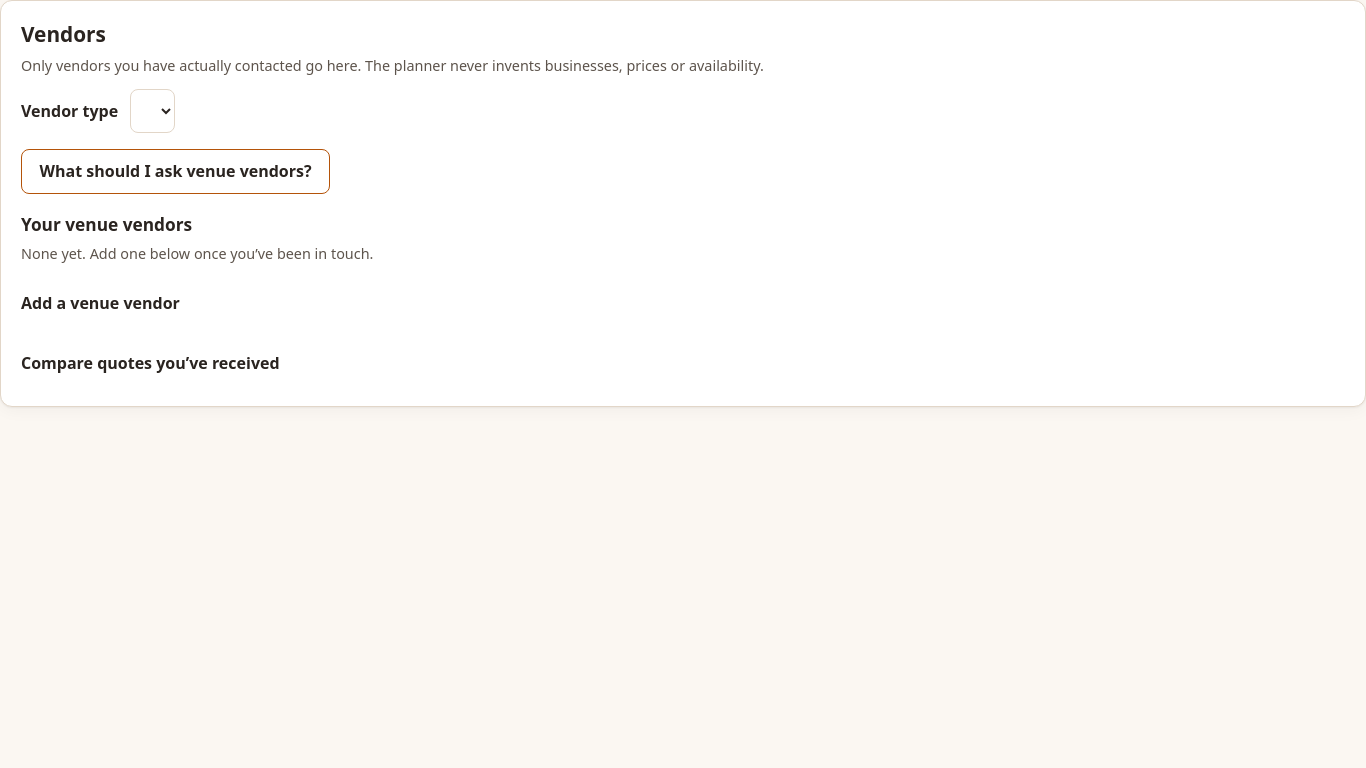
Test: VendorPanel › still works for a plan with no budget lines
Expected: the heading "Your venue vendors" is shown, x1=21 y1=213 x2=192 y2=236
Click the button "What should I ask venue vendors?" at x=176, y=172, box x1=21 y1=149 x2=330 y2=194
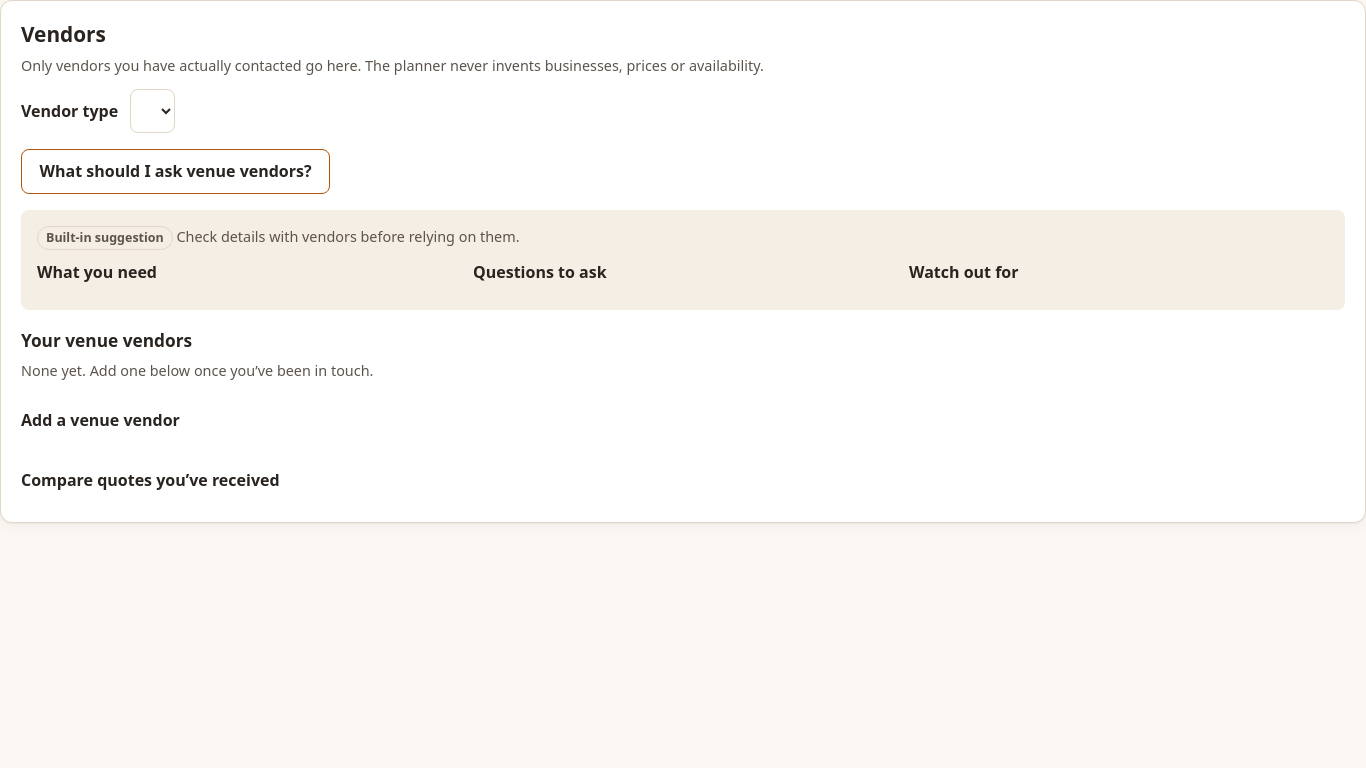
Now the text "Built-in suggestion" is shown, box x1=37 y1=226 x2=173 y2=250
